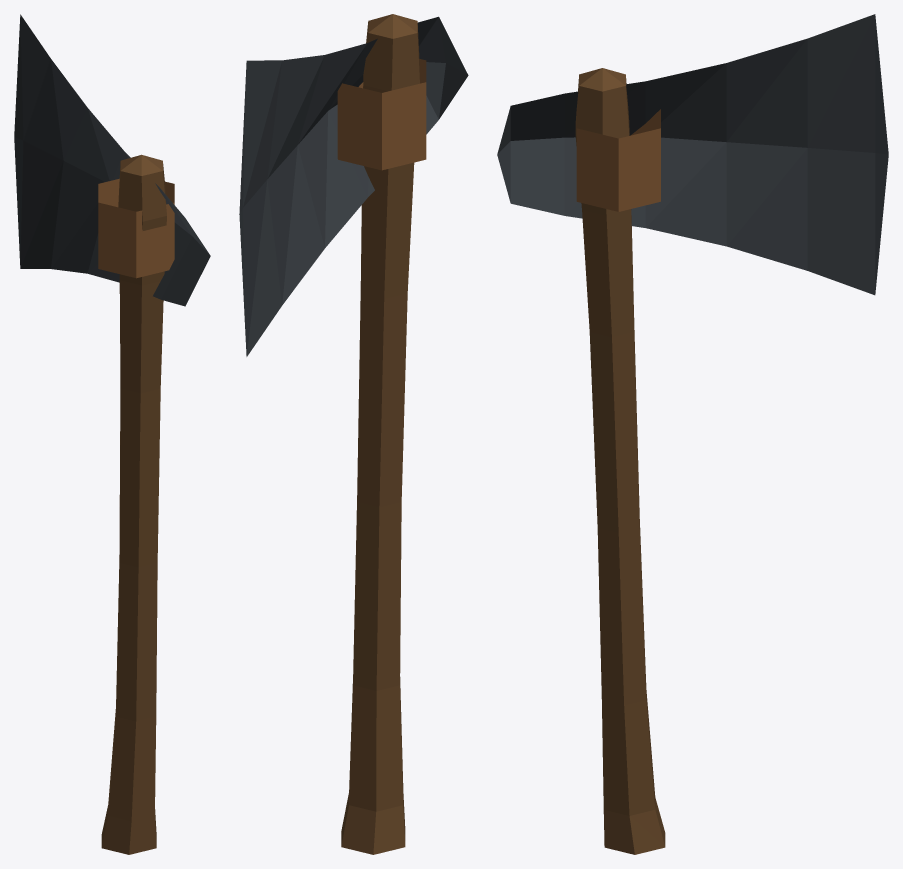
Rendered from tool_axe.obj.
3 renders of one model, left to right at view 1: azimuth 30°, elevation 25°; view 2: azimuth 150°, elevation 25°; view 3: azimuth 270°, elevation 25°, orthographic. The views are drawn at different scales.
Visible parts, largest first — view 1: axe; view 2: axe; view 3: axe.
Part boxes in pixels (x1,y1,x2,y2): axe: (14, 14, 210, 854); axe: (239, 14, 468, 854); axe: (497, 14, 888, 854).
Bounding box in the file's own units: 0.072 × 0.685 × 0.29.
